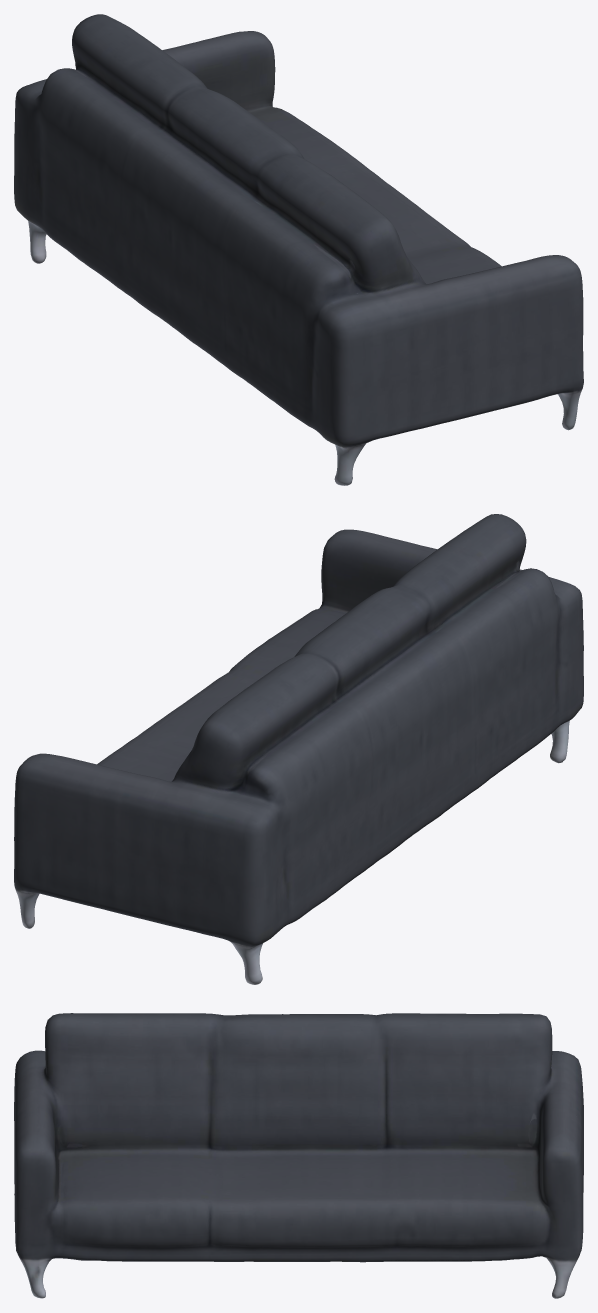
Rendered from sofa.glb.
The picture shows the model from 3 angles, top to bottom: view 1: azimuth 30°, elevation 25°; view 2: azimuth 150°, elevation 25°; view 3: azimuth 270°, elevation 25°; orthographic projection. The views are drawn at different scales.
Parts seen in each view (by area): view 1: mesh; view 2: mesh; view 3: mesh.
Part boxes in pixels (<box>): mesh: <box>14,14,583,485</box>; mesh: <box>14,514,583,984</box>; mesh: <box>14,1013,583,1298</box>.
Size of the model in its own units: 0.4454 by 0.404 by 0.9996.
1 material, 1 textured.
